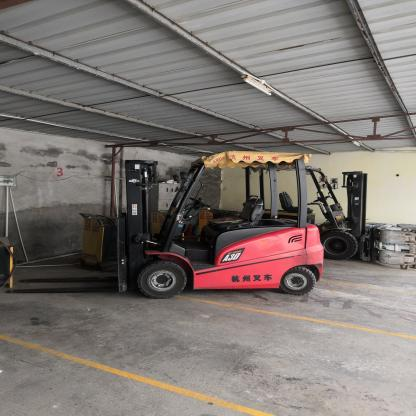forklift: (122, 150, 326, 300)
